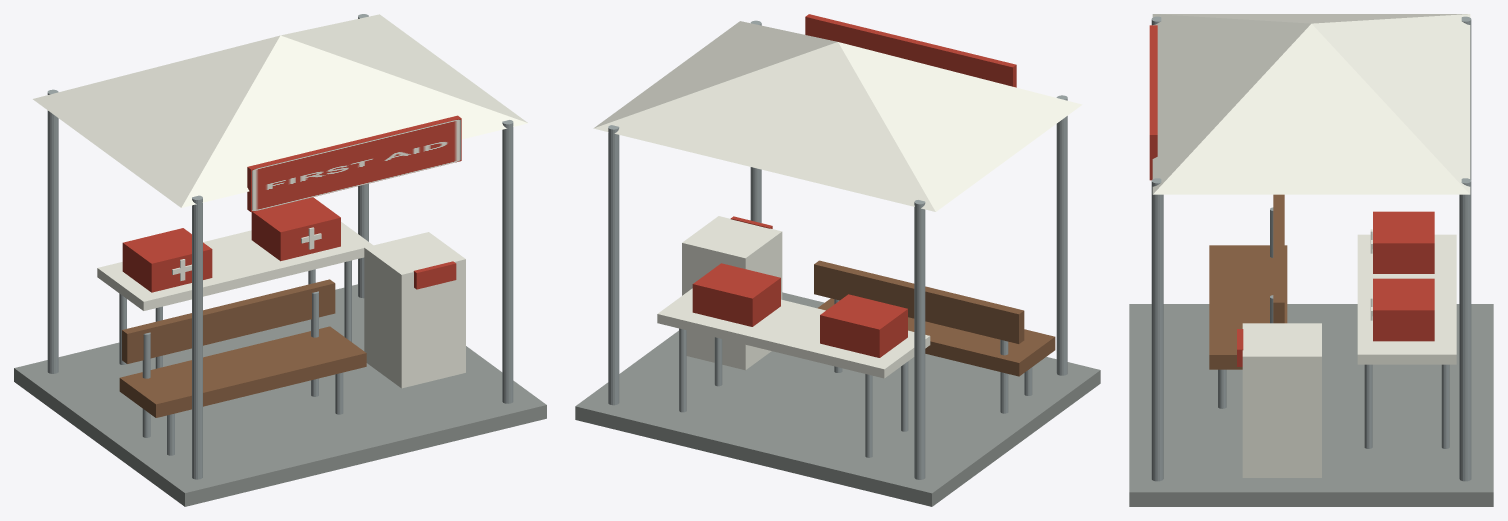
The model's file is scendance-plan-first-aid-point-compact.glb.
3 views of the same model, side by side, from view 1: azimuth 30°, elevation 25°; view 2: azimuth 150°, elevation 25°; view 3: azimuth 270°, elevation 25° (orthographic). The views are drawn at different scales.
Size of the model in its own units: 2.75 by 2.65 by 2.25.
Materials: 6 (1 with a texture image).
